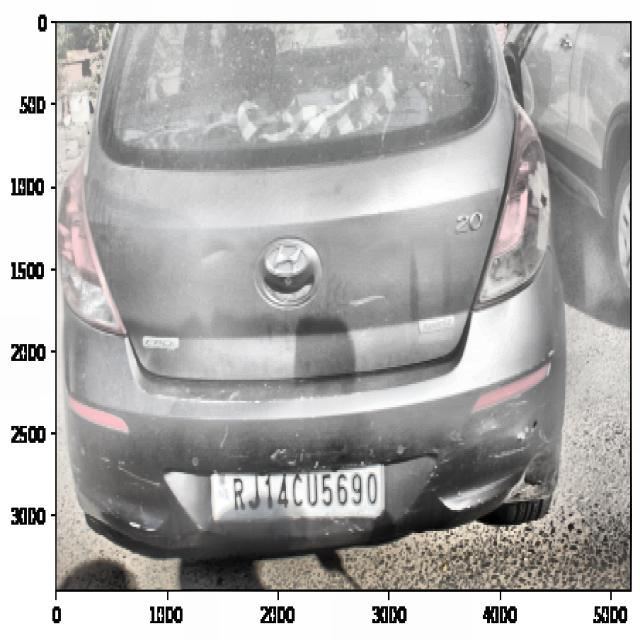license_plate: (230, 466, 384, 523)
